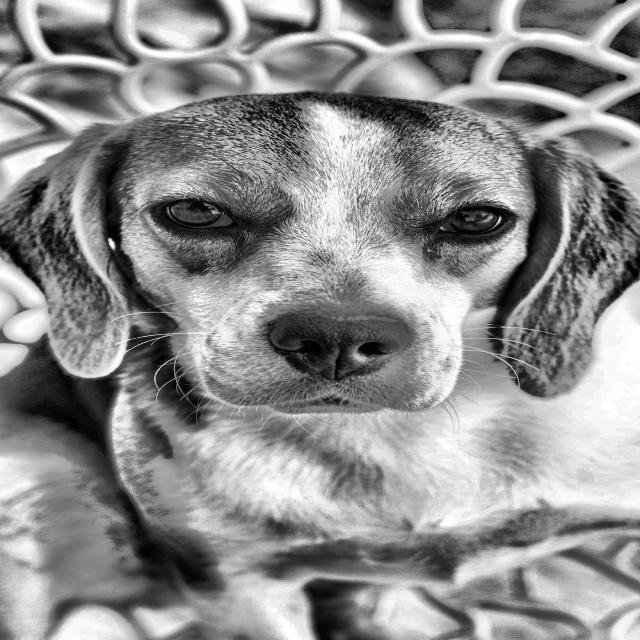beagle: (0, 73, 640, 430)
